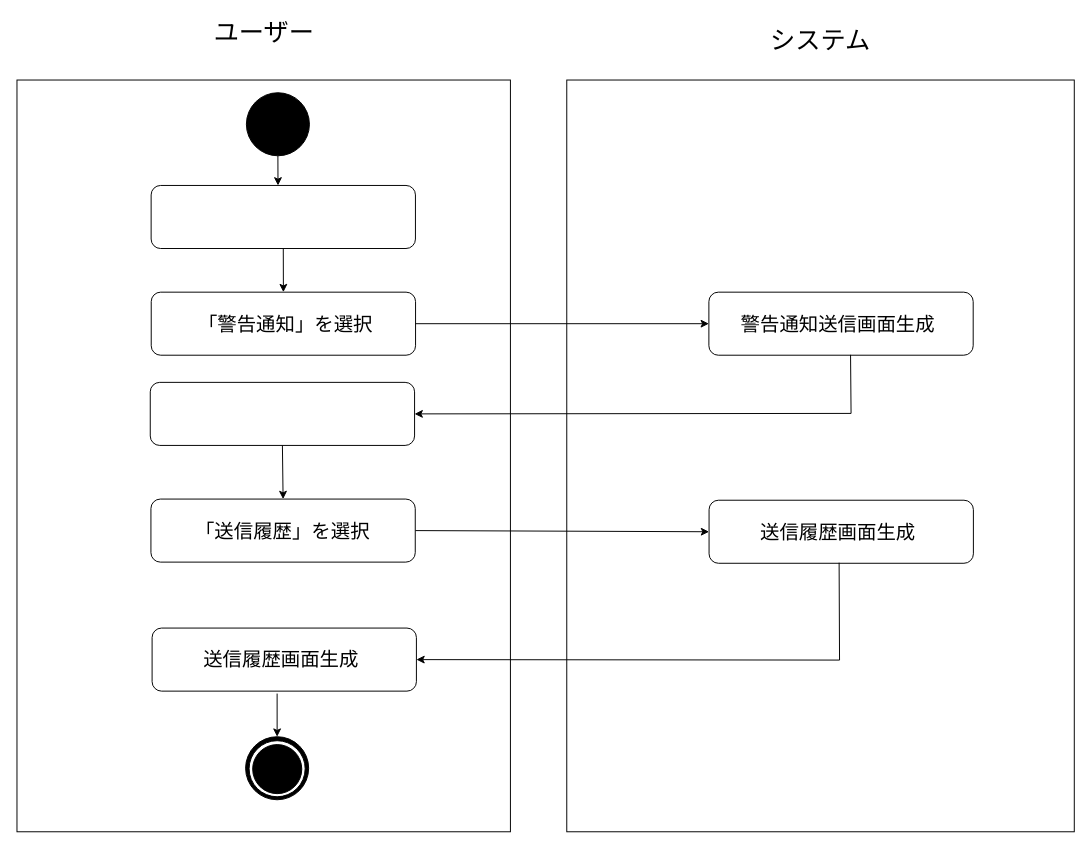
Some shapes in this 1091 by 849 pixel diagram are drawn without their labels. Here are the shapes that lost their labels. From the top down, the centre of each, then its label:
pixel 282 216: 配達員アカウント 詳細画面表示
pixel 282 413: 警告通知送信画面表示
